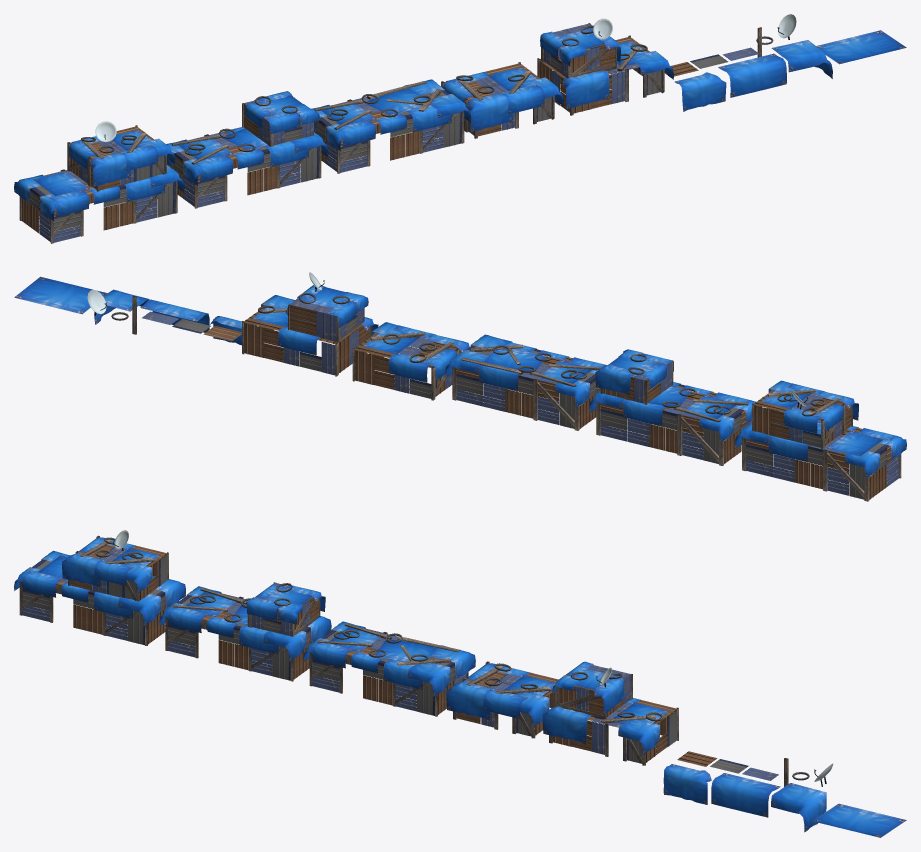
3 renders of one model, top to bottom at view 1: azimuth 30°, elevation 25°; view 2: azimuth 150°, elevation 25°; view 3: azimuth 330°, elevation 25°, orthographic.
Parts seen in each view (by area): view 1: House1_4, House2_3, House3_2, House5_0, House4_1, Blue sheet3_11, Blue sheet1_12, Blue sheet4_10, Blue sheet2_9; view 2: House1_4, House2_3, House3_2, House5_0, House4_1, Blue sheet1_12, Blue sheet3_11, Blue sheet2_9; view 3: House1_4, House2_3, House3_2, House5_0, House4_1, Blue sheet3_11, Blue sheet1_12, Blue sheet2_9, Blue sheet4_10.
Part boxes in pixels (left/top/right/bottom): House1_4: left=14, top=121, right=184, bottom=243; House2_3: left=166, top=91, right=328, bottom=208; House3_2: left=311, top=79, right=471, bottom=173; House5_0: left=537, top=18, right=673, bottom=115; House4_1: left=441, top=62, right=563, bottom=138; Blue sheet3_11: left=718, top=53, right=786, bottom=97; Blue sheet1_12: left=816, top=30, right=906, bottom=64; Blue sheet4_10: left=674, top=72, right=726, bottom=111; Blue sheet2_9: left=771, top=40, right=832, bottom=78; House1_4: left=735, top=380, right=906, bottom=501; House2_3: left=589, top=349, right=755, bottom=465; House3_2: left=445, top=334, right=606, bottom=430; House5_0: left=242, top=272, right=378, bottom=376; House4_1: left=352, top=322, right=469, bottom=400; Blue sheet1_12: left=14, top=276, right=107, bottom=314; Blue sheet3_11: left=140, top=299, right=209, bottom=332; Blue sheet2_9: left=94, top=289, right=149, bottom=324; House1_4: left=14, top=530, right=185, bottom=645; House2_3: left=159, top=582, right=331, bottom=681; House3_2: left=303, top=621, right=475, bottom=716; House5_0: left=542, top=661, right=678, bottom=765; House4_1: left=446, top=661, right=558, bottom=738; Blue sheet3_11: left=711, top=773, right=780, bottom=817; Blue sheet1_12: left=812, top=803, right=906, bottom=837; Blue sheet2_9: left=771, top=783, right=826, bottom=832; Blue sheet4_10: left=663, top=764, right=711, bottom=804.
Bounding box in the file's own units: 41.99 × 5.12 × 3.64.
7 materials, 7 textured.
